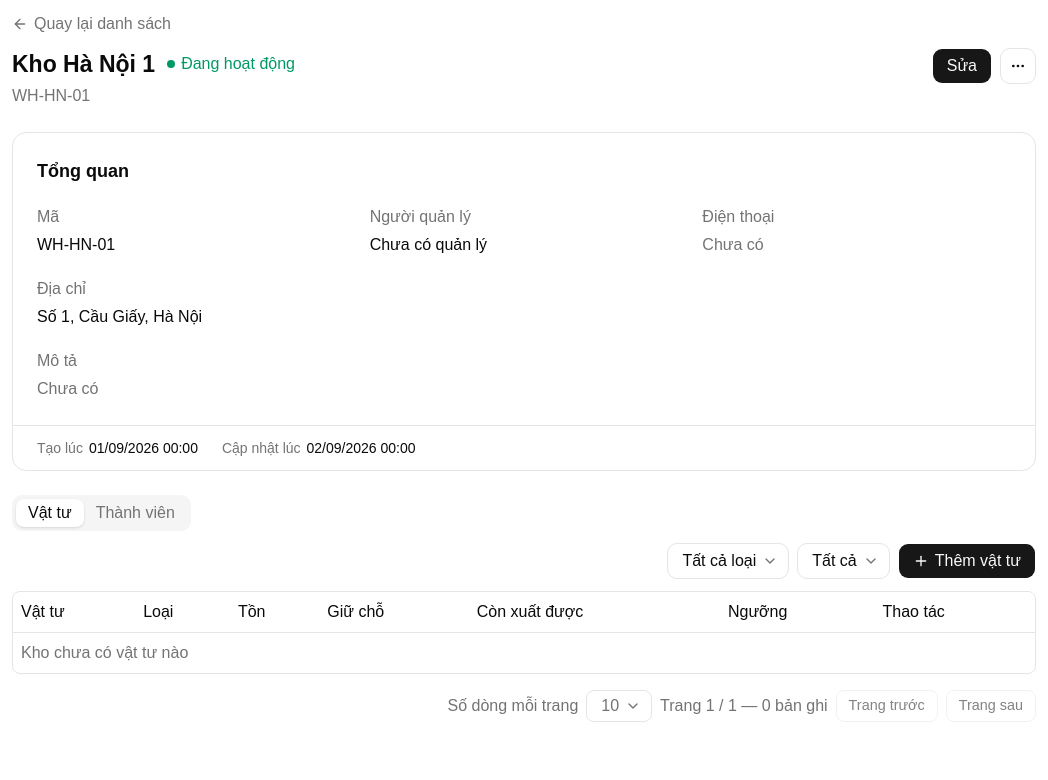
Scenario: WarehouseDetailPage — quay lại và thao tác › kho đang hoạt động → mục Xoá khoá kèm lý do
Expected: the heading "Kho Hà Nội 1" is shown, [12, 48, 155, 80]
Click the button named "Thao tác khác" at point(1018, 66), box [1000, 48, 1036, 84]
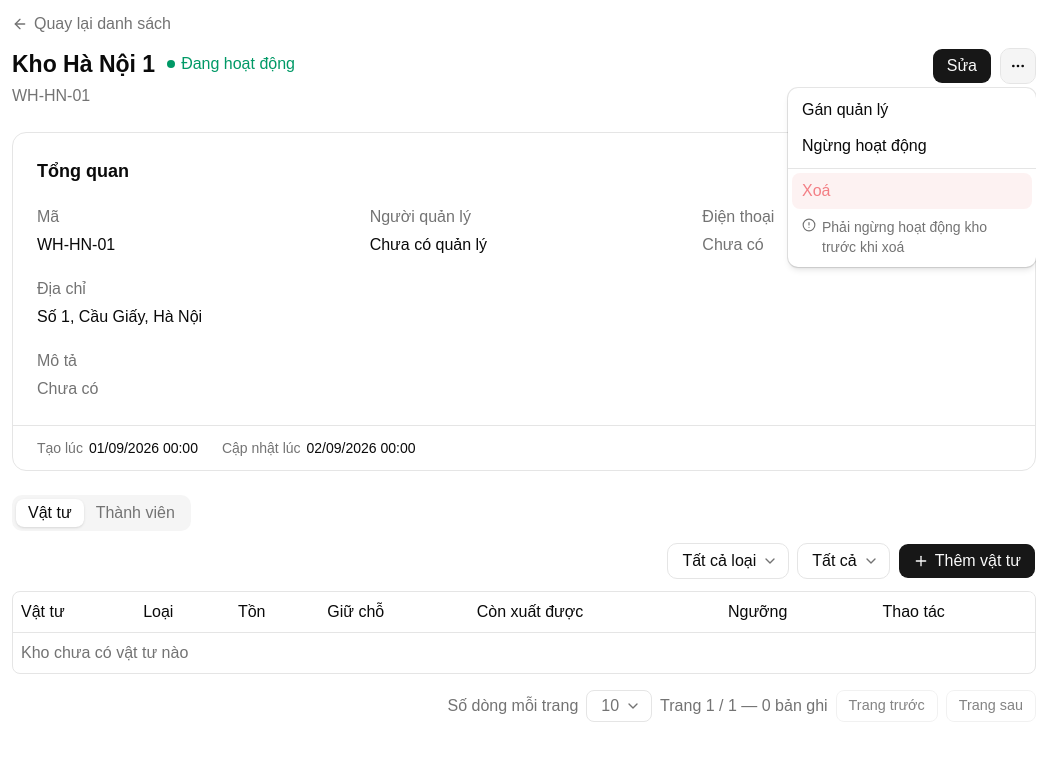
Now the text "Phải ngừng hoạt động kho trước khi xoá" is shown, box [822, 219, 987, 255]
